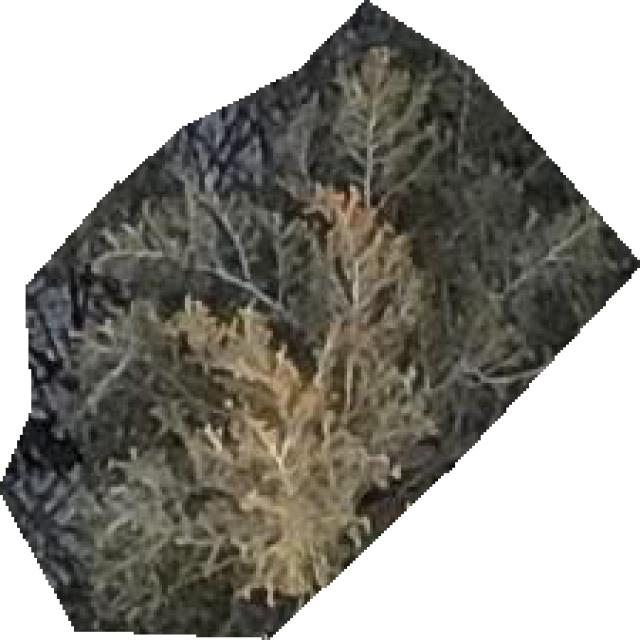spruce: (0, 3, 637, 637)
